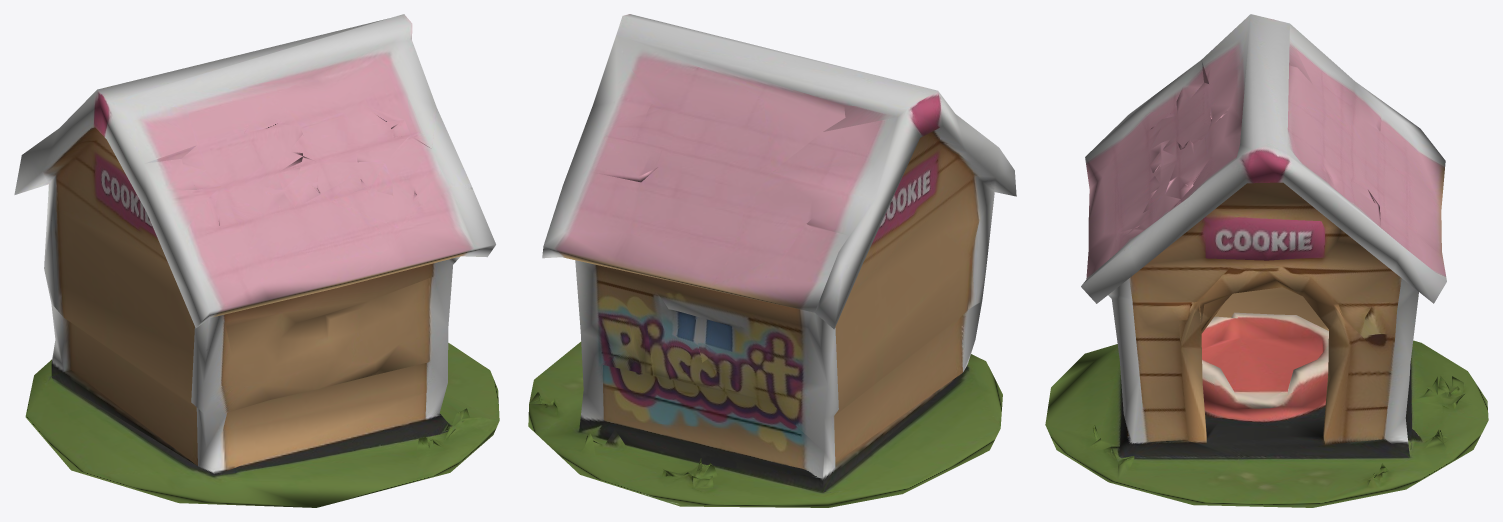
File: cookie_house_3d_model.glb
The picture shows the model from 3 angles, left to right: view 1: azimuth 30°, elevation 25°; view 2: azimuth 150°, elevation 25°; view 3: azimuth 270°, elevation 25°; orthographic projection. The views are drawn at different scales.
Parts seen in each view (by area): view 1: tripo_node_116d0904-6385-468f-ba4a-d11188c955ac; view 2: tripo_node_116d0904-6385-468f-ba4a-d11188c955ac; view 3: tripo_node_116d0904-6385-468f-ba4a-d11188c955ac.
Boxes of the visible parts, bbox=[...] form: tripo_node_116d0904-6385-468f-ba4a-d11188c955ac: bbox=[14, 14, 499, 507]; tripo_node_116d0904-6385-468f-ba4a-d11188c955ac: bbox=[528, 14, 1016, 507]; tripo_node_116d0904-6385-468f-ba4a-d11188c955ac: bbox=[1045, 14, 1488, 507].
Bounding box in the file's own units: 0.9789 × 0.8212 × 0.9861.
1 material, 1 textured.
